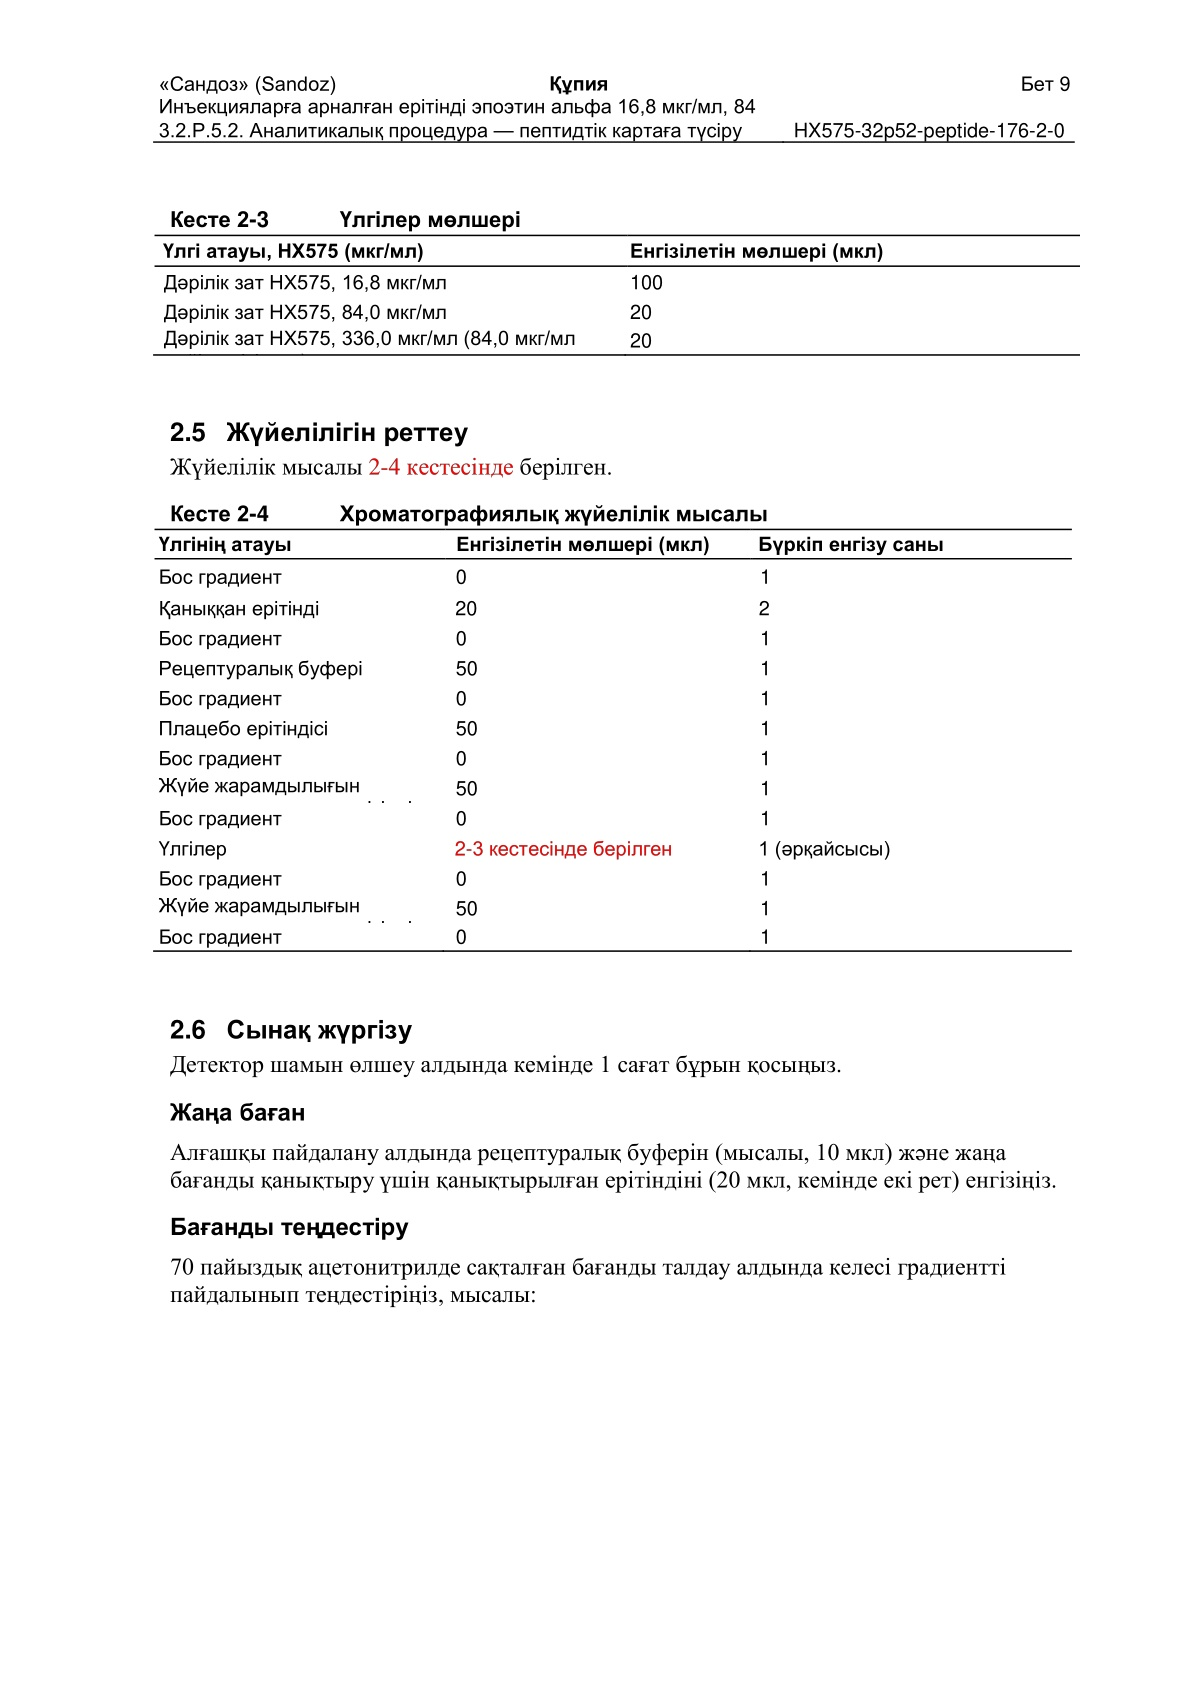partial_lined: (153, 527, 1072, 955), (153, 233, 1080, 358)
